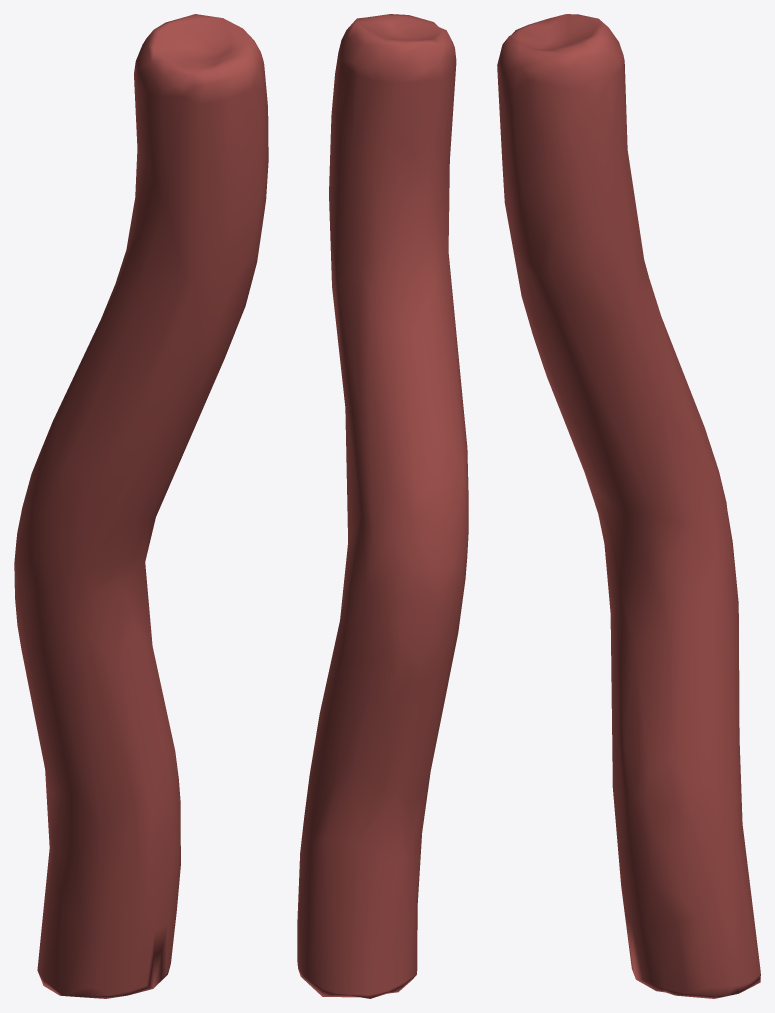
File: FMA4058.glb
3 views of the same model, side by side, from view 1: azimuth 30°, elevation 25°; view 2: azimuth 150°, elevation 25°; view 3: azimuth 270°, elevation 25° (orthographic). The views are drawn at different scales.
Parts seen in each view (by area): view 1: FMA4058; view 2: FMA4058; view 3: FMA4058.
Part boxes in pixels (x1,y1,x2,y2): FMA4058: (14,14,268,998); FMA4058: (297,14,468,998); FMA4058: (497,14,760,998).
Bounding box in the file's own units: 0.0128 × 0.0663 × 0.0164.
